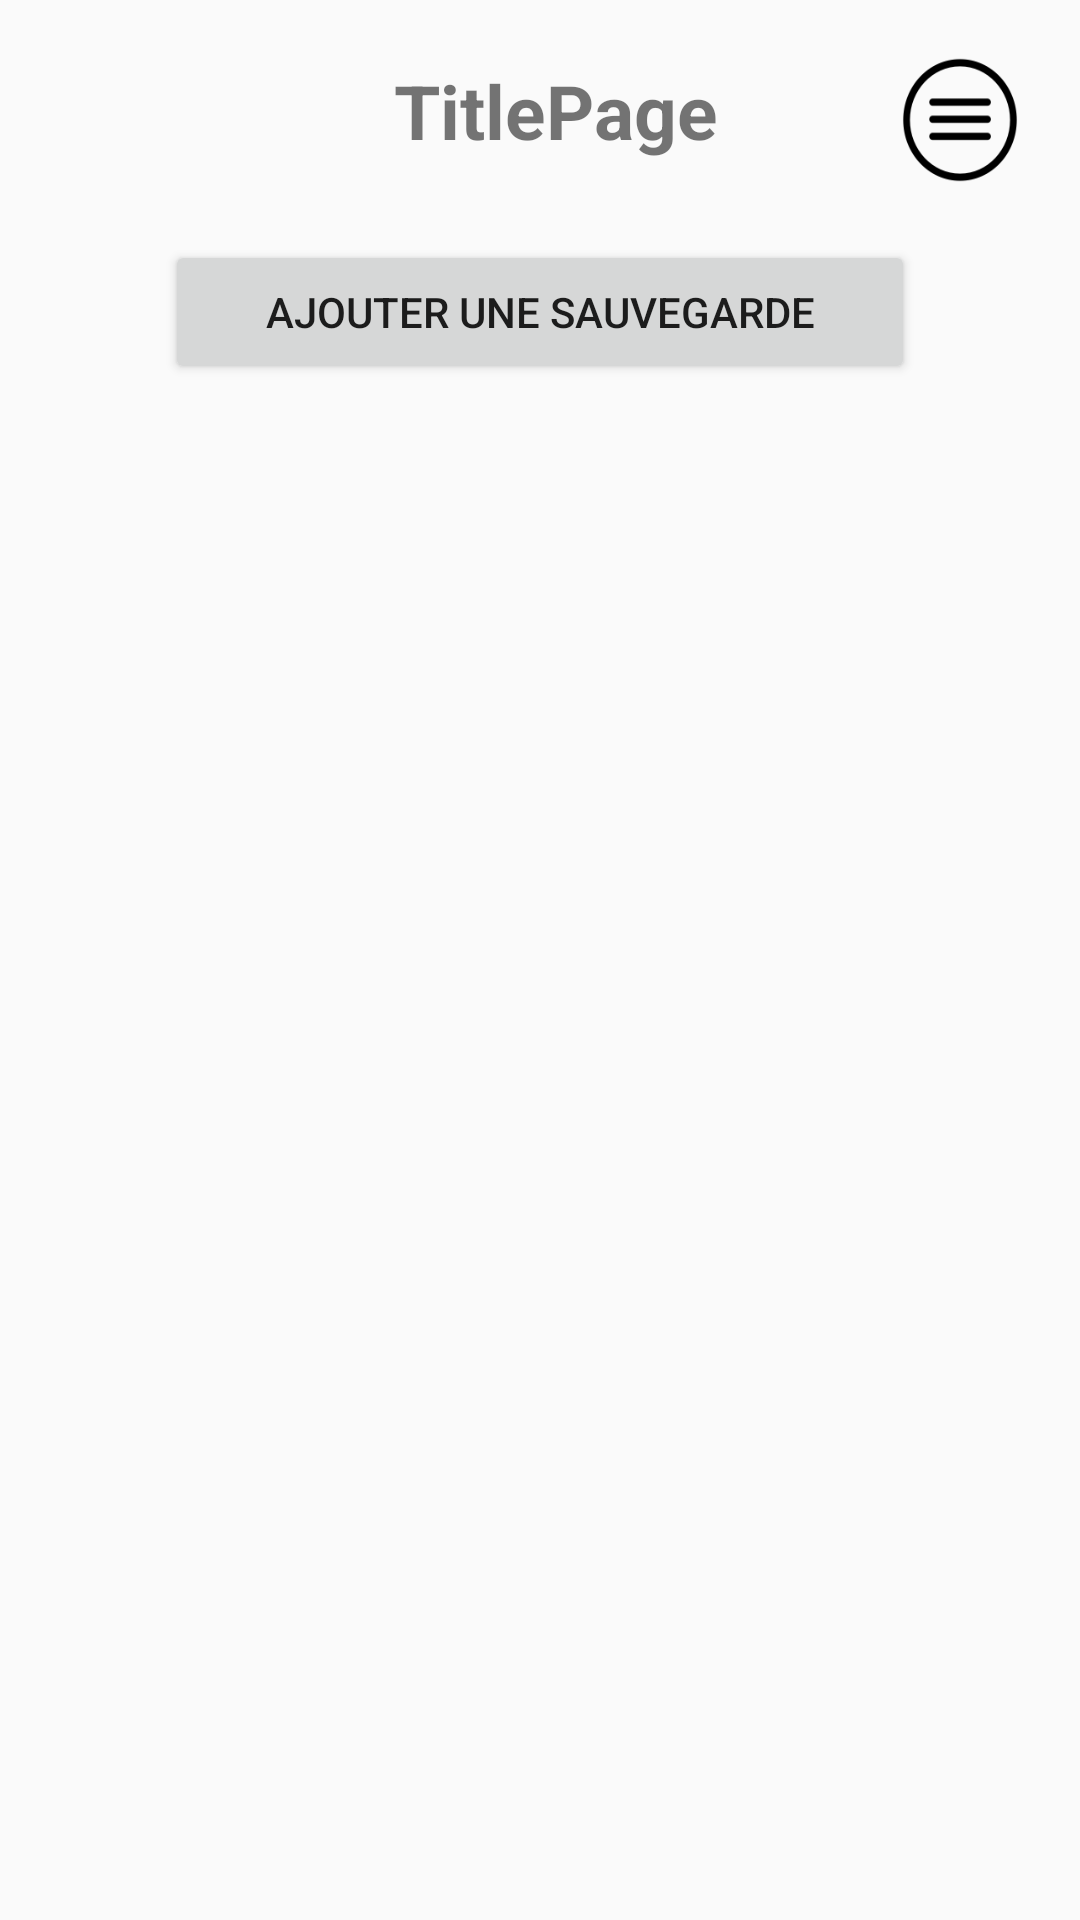

Named icons in this screenshot (1080x1920) and their bounding boxes, region(x1, y1, x2, y2):
menu: region(903, 58, 1017, 181)
